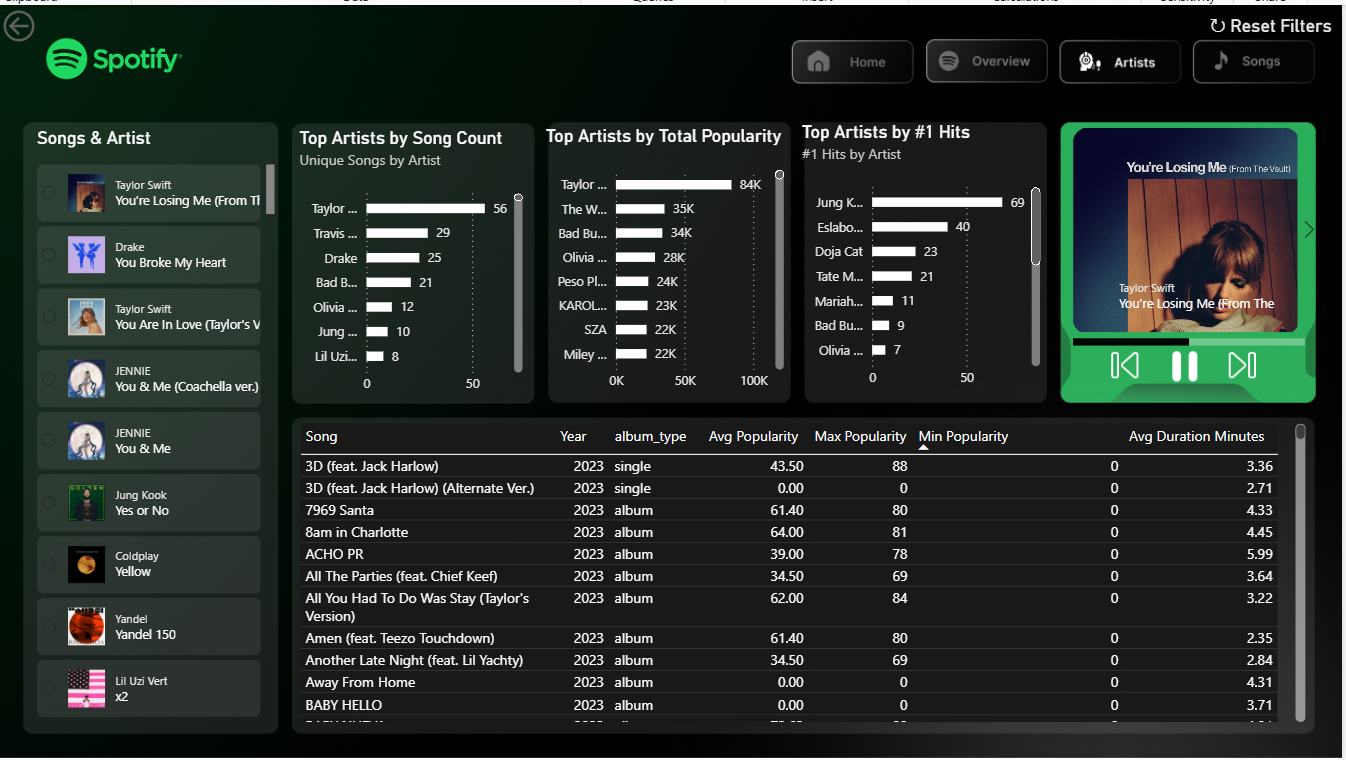

What the dashboard file says about the page in this screenshot:
{"tool":"powerbi","page":{"name":"Artist","canvas":[1280,720],"ordinal":2},"visuals":[{"type":"actionButton","box":[753.8,34,119,38.1],"z":0},{"type":"actionButton","box":[1007.4,34,119,38.1],"z":1000},{"type":"actionButton","box":[1138.3,34,119,38.1],"z":2000},{"type":"actionButton","box":[872.9,34,119,38.1],"z":3000},{"type":"hundredPercentStackedBarChart","fields":{"Y":["_Measures.Avg Popularity","Avg(Top-50-World.popularity)"]},"box":[1019.5,285.2,231,64.3],"z":4000},{"type":"image","box":[1166,328.1,39,29],"z":5000},{"type":"image","box":[1111.2,329.3,39,29],"z":6000},{"type":"image","box":[1054.1,328.1,39,29],"z":7000},{"type":"shape","box":[1010.7,110.7,248.8,265.5],"z":8000},{"type":"advancedSlicerVisual","title":"Songs & Artist","fields":{"Values":["Top-50-World.song"]},"box":[32.1,116.7,236.9,571.4],"z":9000},{"type":"advancedSlicerVisual","title":"Songs & Artist","fields":{"Values":["Top-50-World.song"]},"box":[997.6,110.7,266.7,207.1],"z":10000},{"type":"tableEx","fields":{"Values":["Top-50-World.song","Top-50-World.release_date.Variation.Date Hierarchy.Year","Top-50-World.album_type","_Measures.Avg Popularity","_Measures.Max Popularity","_Measures.Min Popularity","_Measures.Avg Duration Minutes"]},"box":[282.1,394,967.9,294],"z":11000},{"type":"actionButton","box":[0,0,100,40],"z":12000},{"type":"clusteredBarChart","title":"Top Artists by #1 Hits","fields":{"Category":["Top-50-World.Artist"],"Y":["_Measures.Position1 Hits per Artist"]},"box":[760.7,110.7,236.9,261.9],"z":13000},{"type":"clusteredBarChart","title":"Top Artists by Total Popularity","fields":{"Y":["Sum(Top-50-World.popularity)"],"Category":["Top-50-World.Artist"]},"box":[516.7,114.3,236.9,261.9],"z":14000},{"type":"clusteredBarChart","title":"Top Artists by Song Count","fields":{"Y":["_Measures.Distinct Songs"],"Category":["Top-50-World.artist"]},"box":[282.1,116.7,222.6,261.9],"z":15000},{"type":"actionButton","title":"↻ Reset Filters","box":[1131.1,9.7,139.1,23.7],"z":16000}]}

Visuals, with their boxes on the page's 1280x720 design canvas (x1, y1, x2, y2). These are canvas units, not pixel positions in the 1346x760 screenshot, which may show the page scaled, cropped or inside an application window:
actionButton: bbox=(754, 34, 873, 72)
actionButton: bbox=(1007, 34, 1126, 72)
actionButton: bbox=(1138, 34, 1257, 72)
actionButton: bbox=(873, 34, 992, 72)
hundredPercentStackedBarChart - _Measures.Avg Popularity x Avg(Top-50-World.popularity): bbox=(1020, 285, 1250, 350)
image: bbox=(1166, 328, 1205, 357)
image: bbox=(1111, 329, 1150, 358)
image: bbox=(1054, 328, 1093, 357)
shape: bbox=(1011, 111, 1260, 376)
"Songs & Artist" advancedSlicerVisual: bbox=(32, 117, 269, 688)
"Songs & Artist" advancedSlicerVisual: bbox=(998, 111, 1264, 318)
tableEx - Top-50-World.song x Top-50-World.release_date.Variation.Date Hierarchy.Year: bbox=(282, 394, 1250, 688)
actionButton: bbox=(0, 0, 100, 40)
"Top Artists by #1 Hits" clusteredBarChart: bbox=(761, 111, 998, 373)
"Top Artists by Total Popularity" clusteredBarChart: bbox=(517, 114, 754, 376)
"Top Artists by Song Count" clusteredBarChart: bbox=(282, 117, 505, 379)
"↻ Reset Filters" actionButton: bbox=(1131, 10, 1270, 33)
